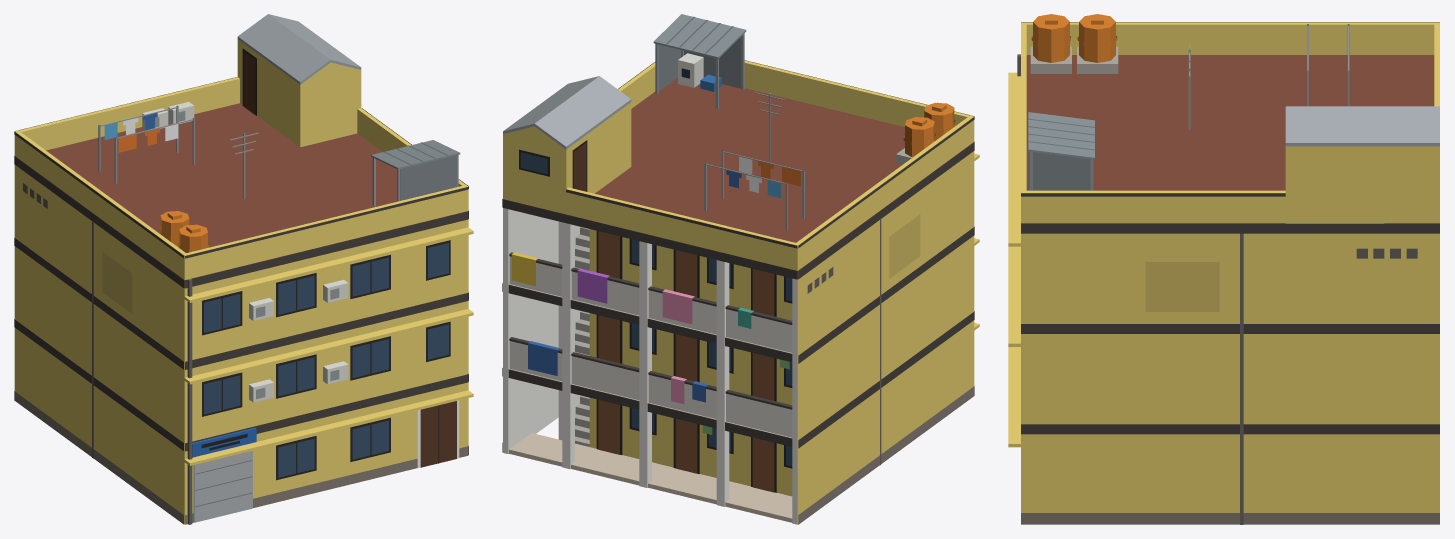
The model's file is kos_04.glb.
3 views of the same model, side by side, from view 1: azimuth 30°, elevation 25°; view 2: azimuth 150°, elevation 25°; view 3: azimuth 270°, elevation 25° (orthographic). The views are drawn at different scales.
Parts seen in each view (by area): view 1: kos_04; view 2: kos_04; view 3: kos_04.
Boxes of the visible parts, bbox=[...] form: kos_04: bbox=[14, 14, 473, 524]; kos_04: bbox=[502, 14, 979, 524]; kos_04: bbox=[1008, 14, 1439, 524].
Bounding box in the file's own units: 11.01 × 11.95 × 11.72.
